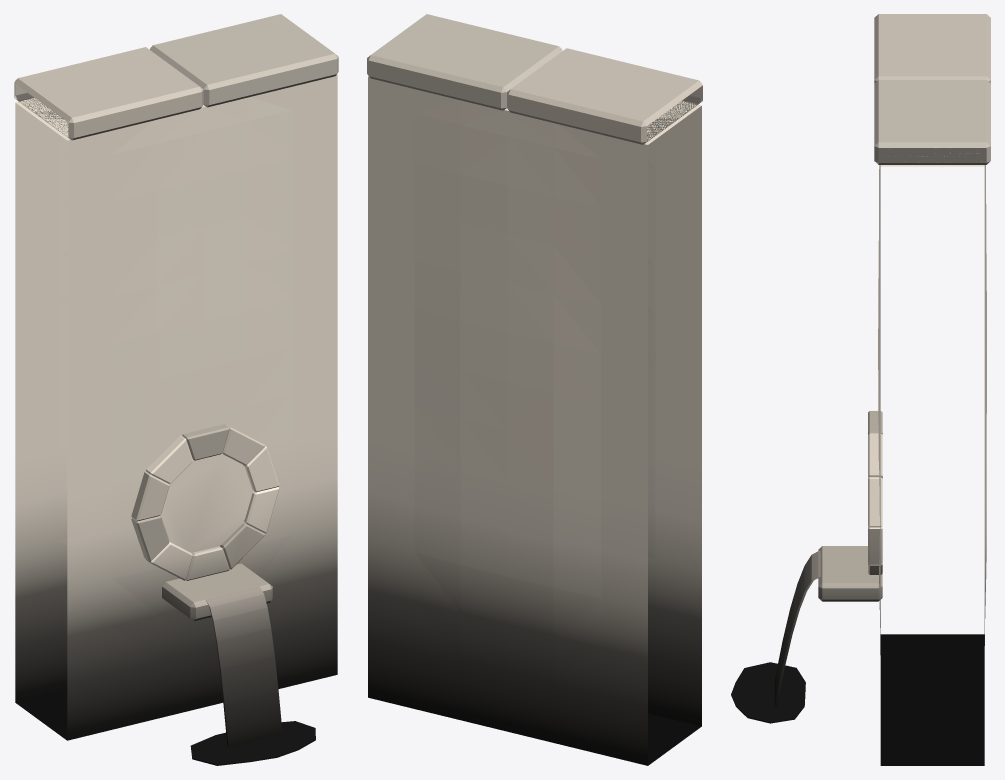
Rendered from SM_VKI_Wall_Sewer_Outfall_150_Full.fbx.
The picture shows the model from 3 angles, left to right: view 1: azimuth 30°, elevation 25°; view 2: azimuth 150°, elevation 25°; view 3: azimuth 270°, elevation 25°; orthographic projection. The views are drawn at different scales.
Visible parts, largest first — view 1: SM_VKI_Wall_Sewer_Outfall_150_Full.001; view 2: SM_VKI_Wall_Sewer_Outfall_150_Full.001; view 3: SM_VKI_Wall_Sewer_Outfall_150_Full.001.
Part boxes in pixels (x1,y1,x2,y2): SM_VKI_Wall_Sewer_Outfall_150_Full.001: [14, 14, 338, 765]; SM_VKI_Wall_Sewer_Outfall_150_Full.001: [367, 14, 702, 765]; SM_VKI_Wall_Sewer_Outfall_150_Full.001: [731, 14, 990, 765].
Size of the model in its own units: 1.5 by 3.3 by 1.25.
